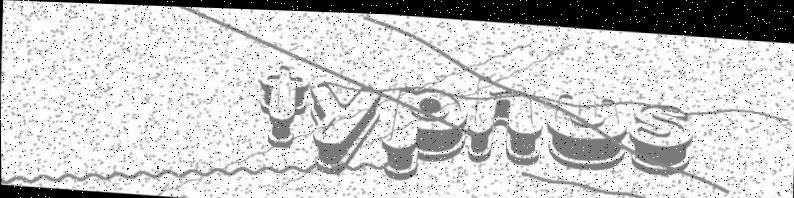h: (465, 69, 546, 164)
p: (381, 81, 468, 182)
s: (628, 96, 695, 169)
t: (256, 59, 308, 148)
u: (542, 87, 631, 168)
y: (304, 76, 384, 178)
